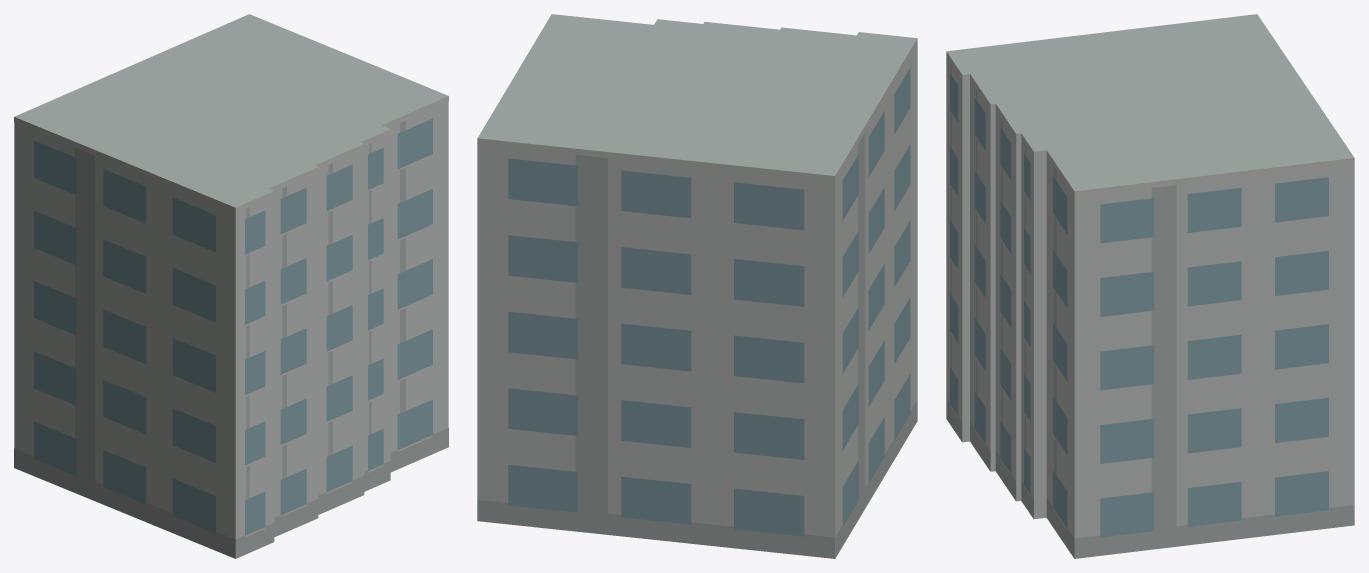
File: survey-upis-32912102.glb
The picture shows the model from 3 angles, left to right: view 1: azimuth 30°, elevation 25°; view 2: azimuth 150°, elevation 25°; view 3: azimuth 270°, elevation 25°; orthographic projection. The views are drawn at different scales.
Visible parts, largest first — view 1: survey-upis-32912102.tmp; view 2: survey-upis-32912102.tmp; view 3: survey-upis-32912102.tmp.
Boxes of the visible parts, <box> form: survey-upis-32912102.tmp: <box>14,14,448,558</box>; survey-upis-32912102.tmp: <box>477,14,917,558</box>; survey-upis-32912102.tmp: <box>946,14,1354,558</box>.
Size of the model in its own units: 15.74 by 15.2 by 15.31.
